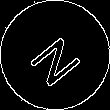N_NE: (23, 23, 87, 87)
